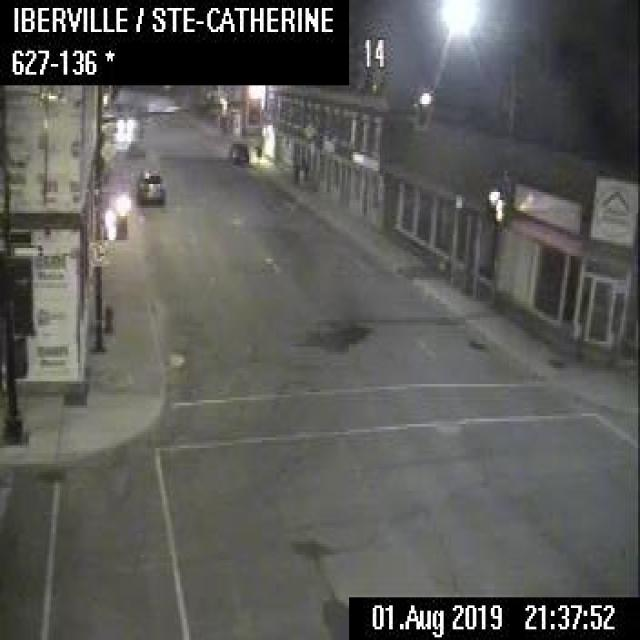vehicle: (132, 168, 164, 205), (227, 139, 249, 163), (114, 107, 135, 131)
